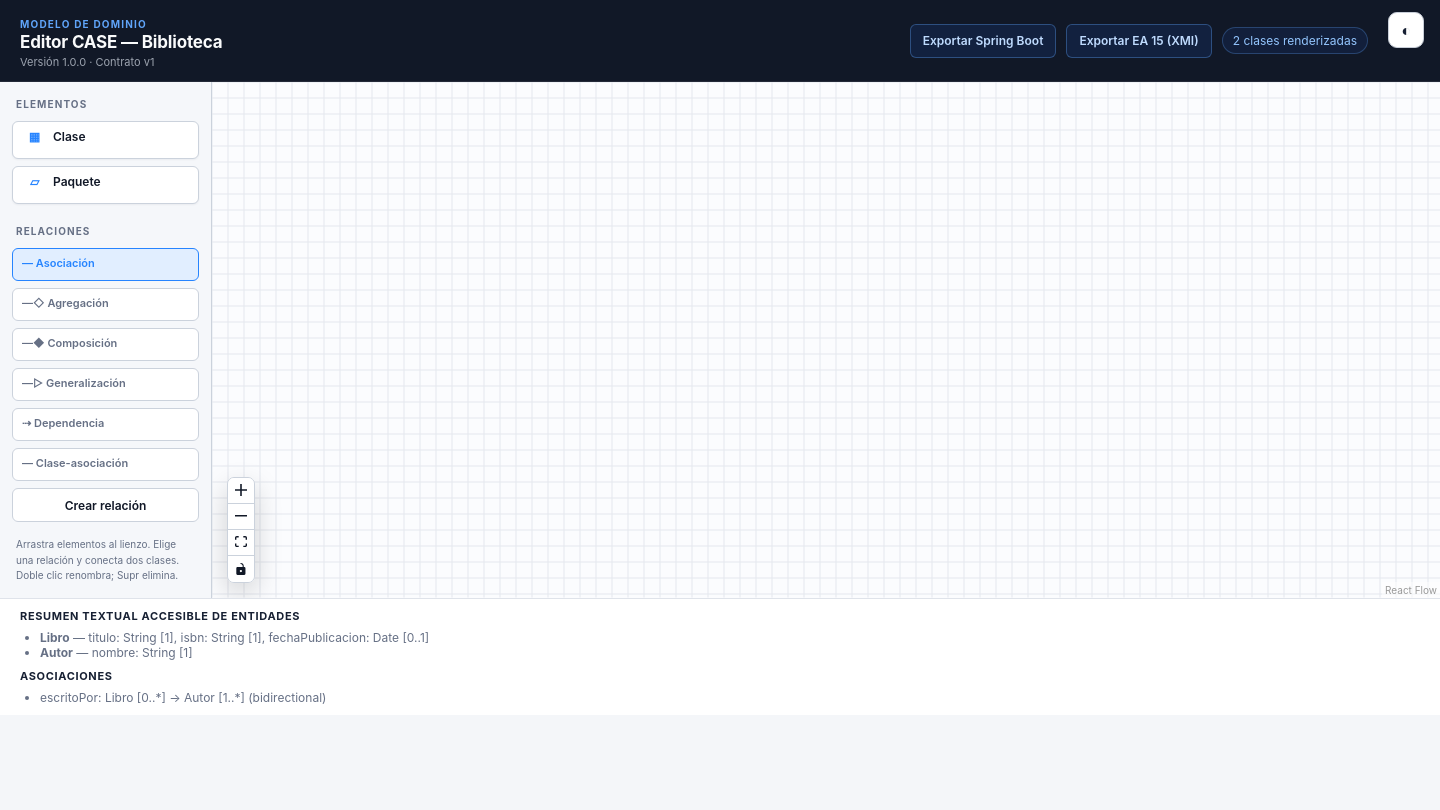
Scenario: CaseWeb Visual Association Commands (P4-005) › crea una asociación válida desde la barra de herramientas y actualiza modelo y vista
The image size is (1440, 810).
Click the button with test id "btn-add-association" at (106, 505), box [12,488,199,522]
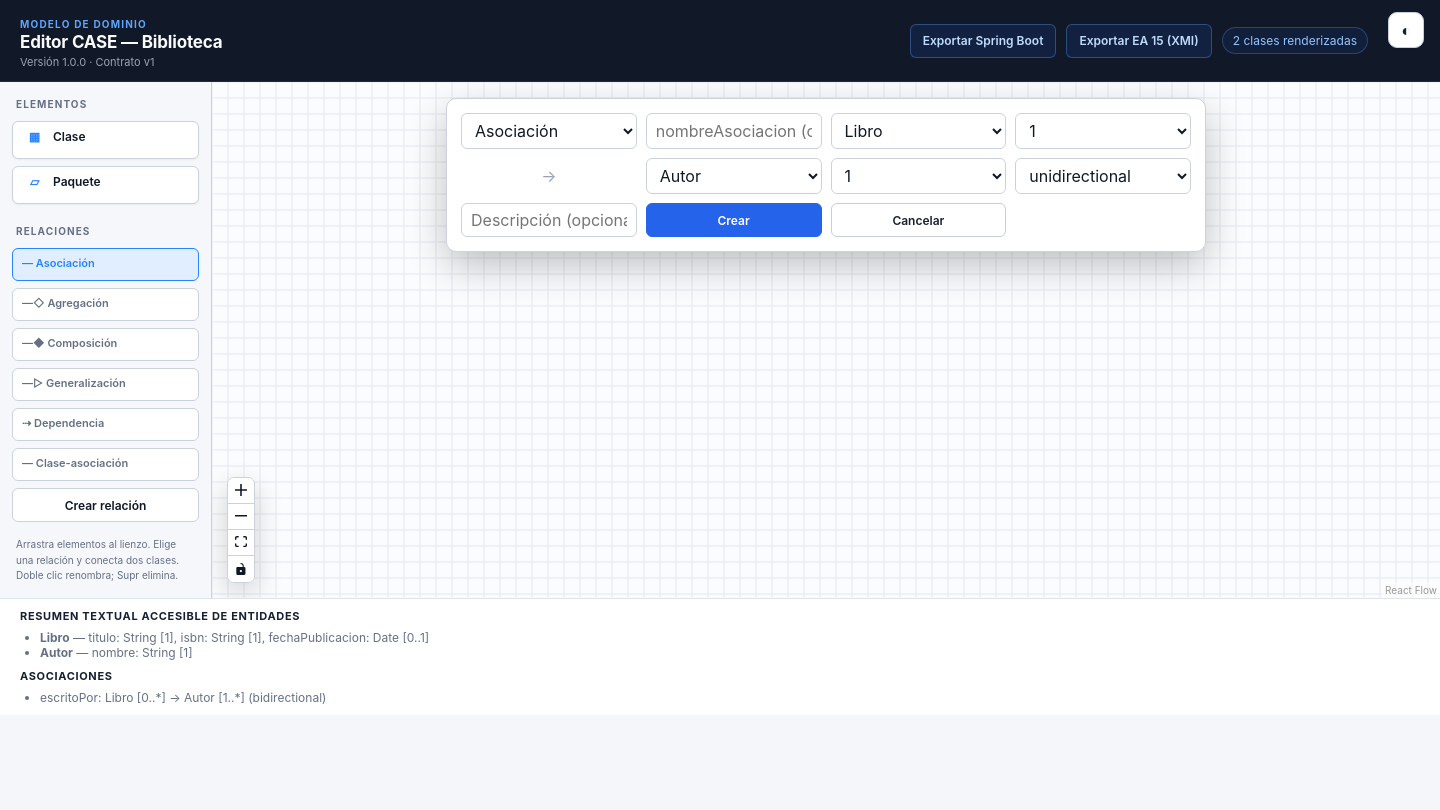
Type "escribe" into the field with test id "assoc-name-input" at (734, 131), box [646,113,822,149]
# Origen: Autor (cls-02), Destino: Libro (cls-01)
Select "Autor" in the dropdown with test id "assoc-source-select" at (918, 131), box [830,113,1006,149]
Select "1..*" in the dropdown with test id "assoc-source-mult-select" at (1103, 131), box [1015,113,1191,149]
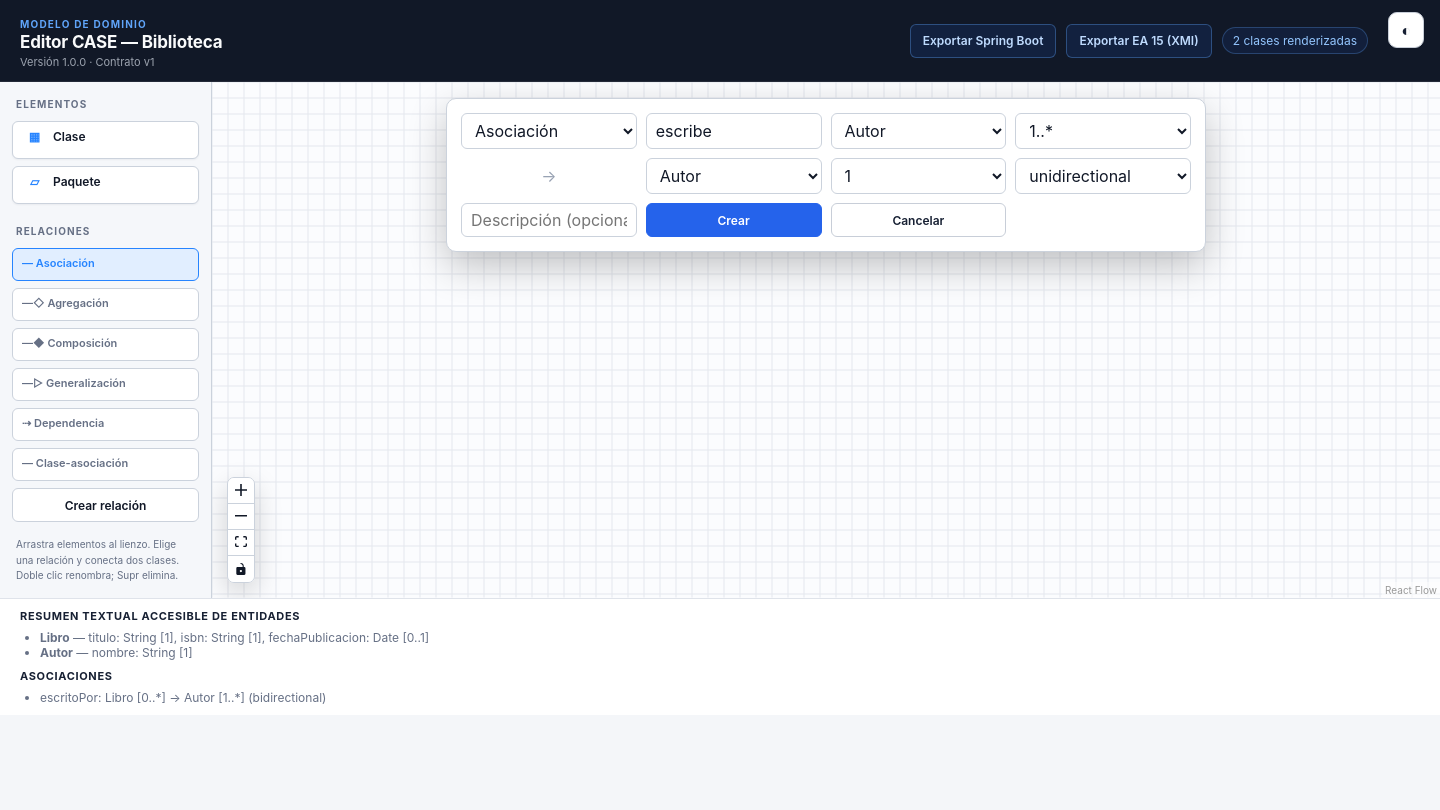
Select "Libro" in the dropdown with test id "assoc-target-select" at (734, 176), box [646,158,822,194]
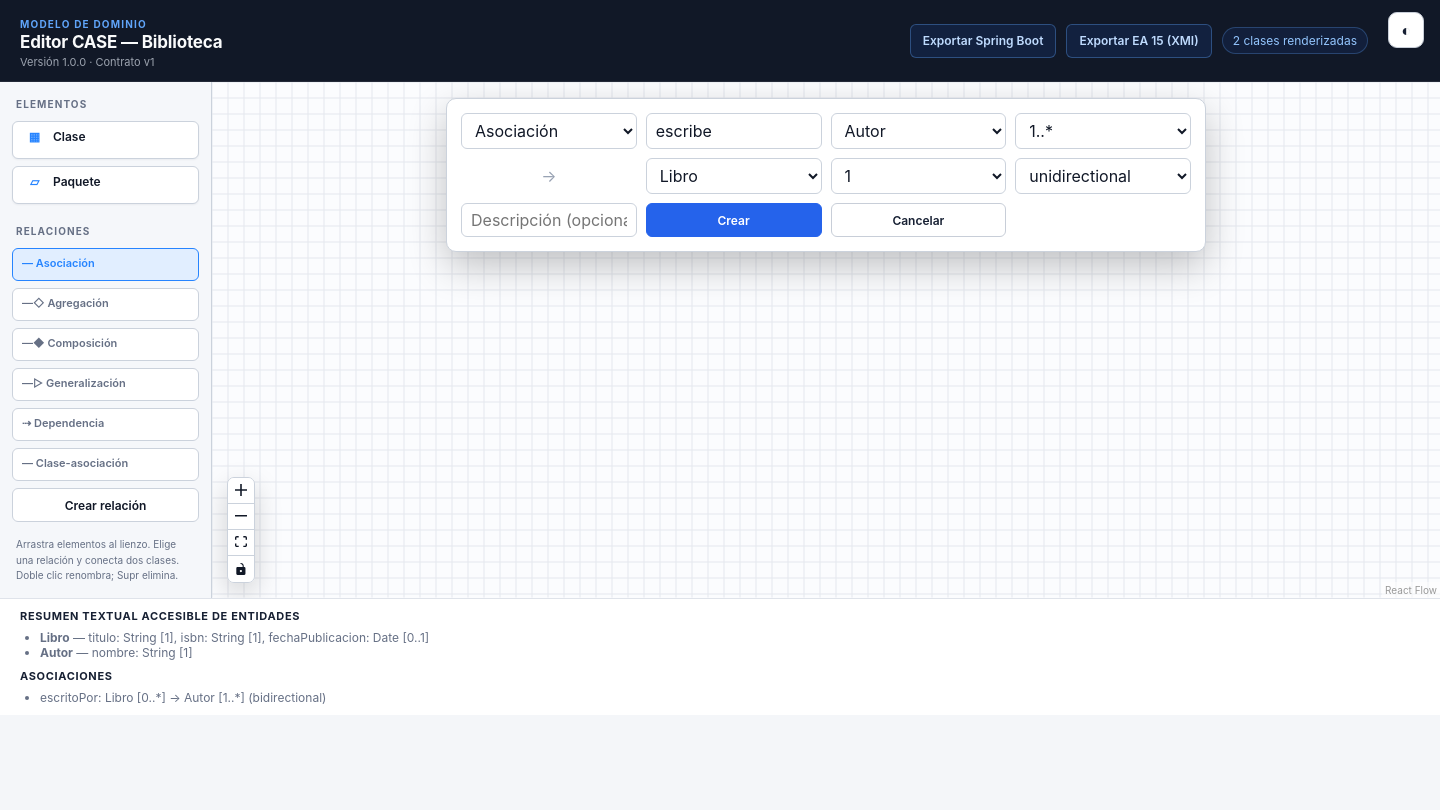
Select "0..*" in the dropdown with test id "assoc-target-mult-select" at (918, 176), box [830,158,1006,194]
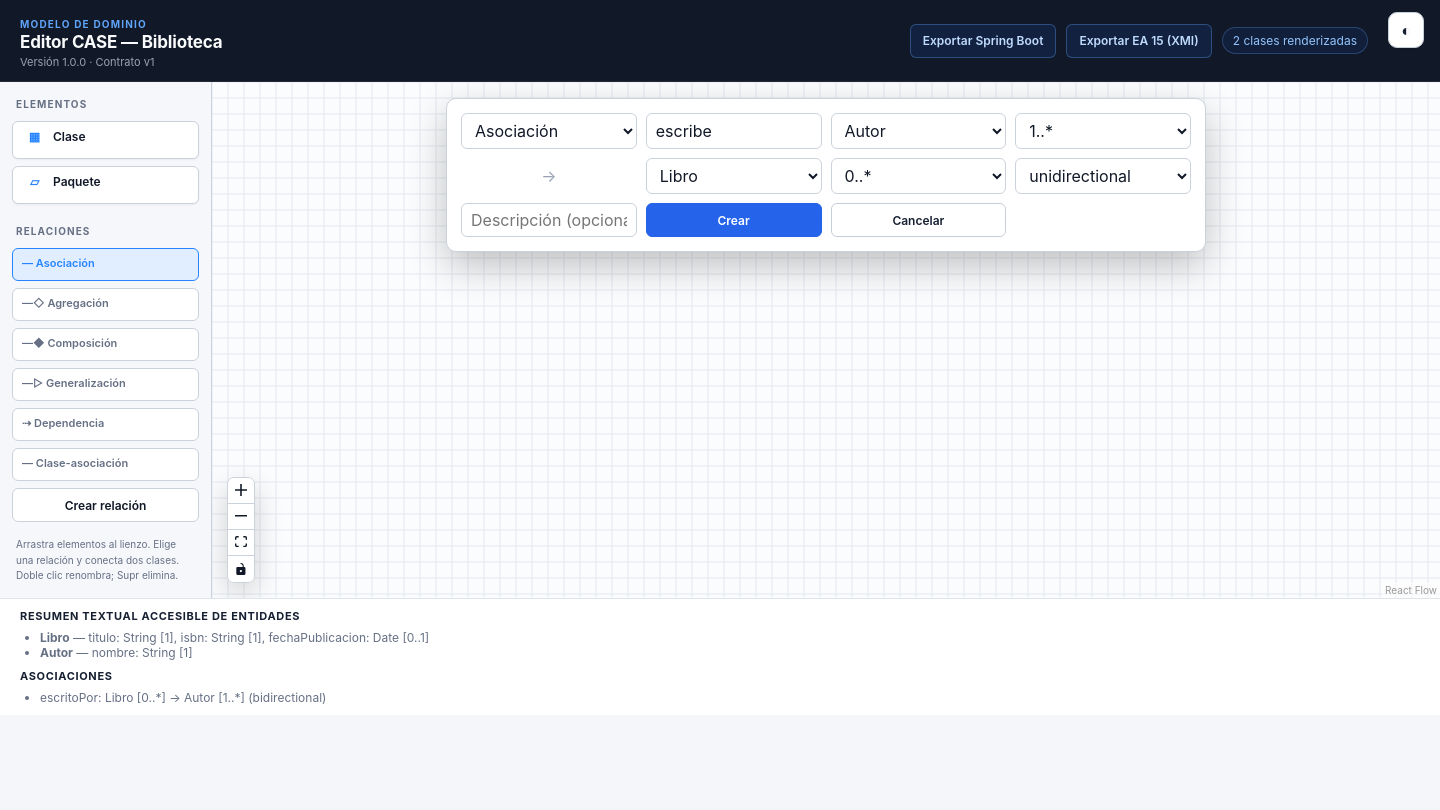
Select "bidirectional" in the dropdown with test id "assoc-navigability-select" at (1103, 176), box [1015,158,1191,194]
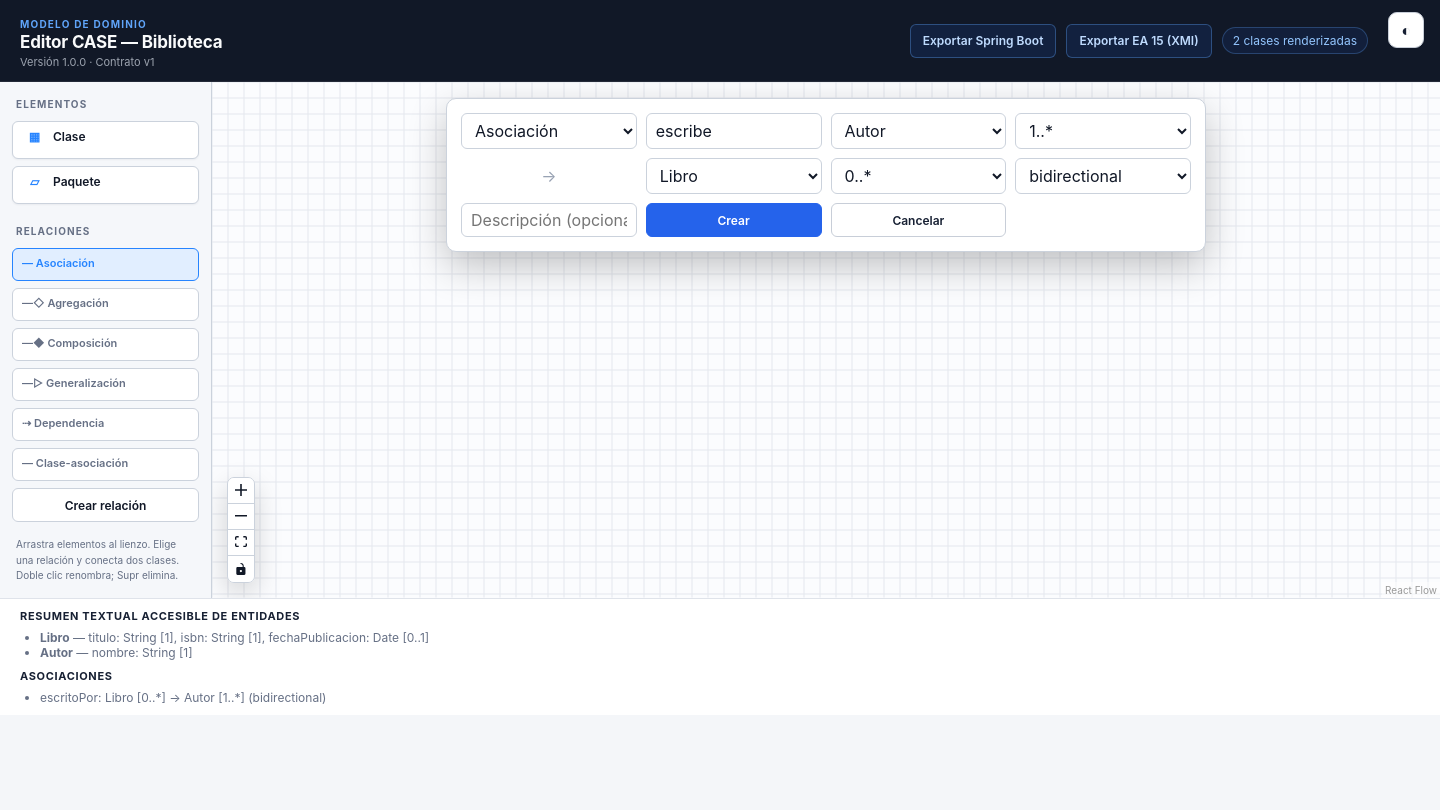
Click the button with test id "confirm-add-association" at (734, 220), box [646,203,822,237]
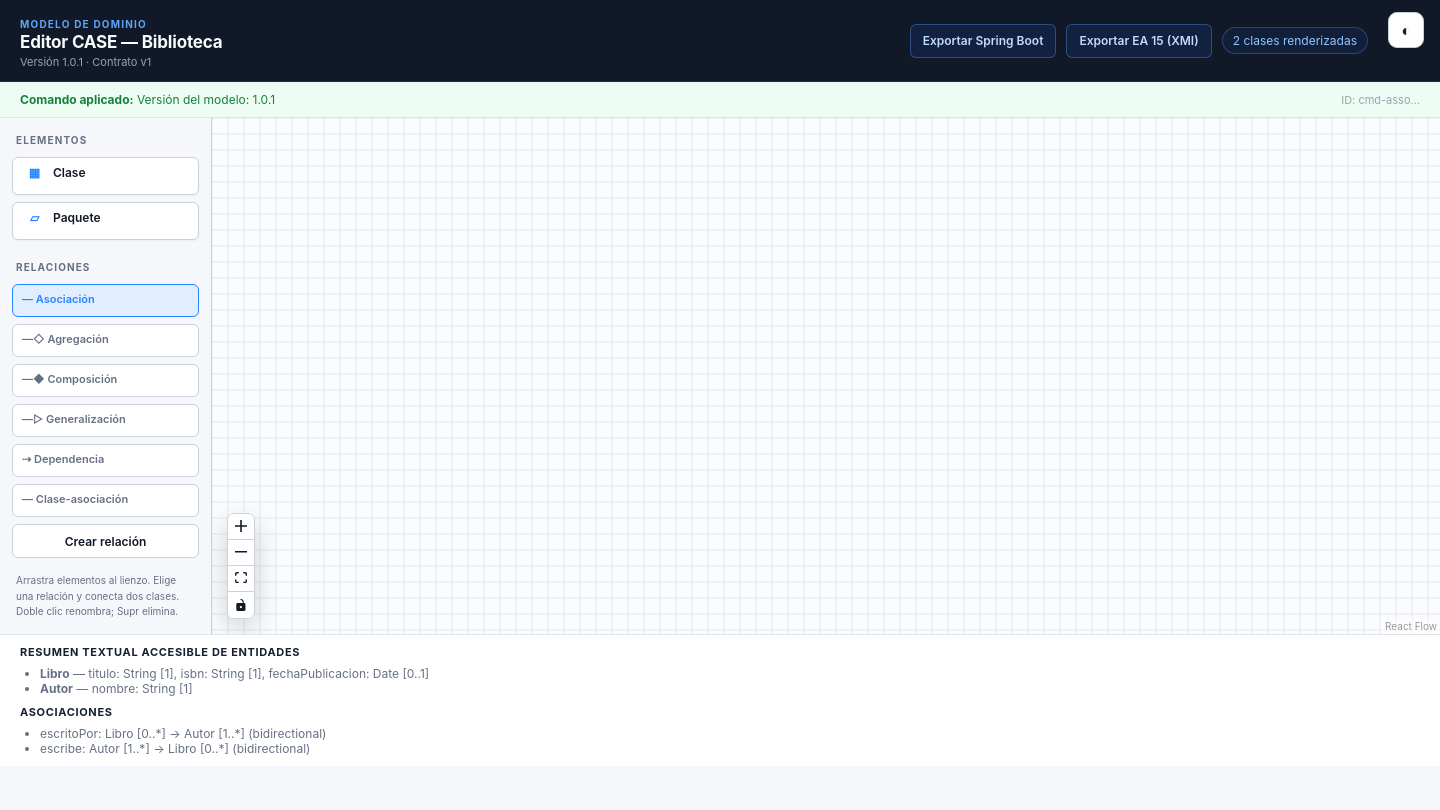
Result: the element with test id "command-result-banner" shows "Comando aplicado" at [0,82,1439,118]
Result: the element with test id "command-result-banner" shows "Versión del modelo: 1.0.1" at [137,92,275,107]
Result: the list with test id "semantic-association-list" shows "escribe" at [40,740,89,756]
